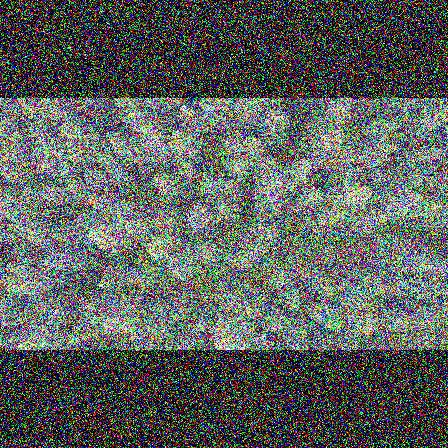Sick: (253, 182, 291, 214), (102, 158, 133, 185), (196, 172, 227, 199), (186, 311, 214, 338), (251, 326, 276, 346), (233, 313, 254, 336)
